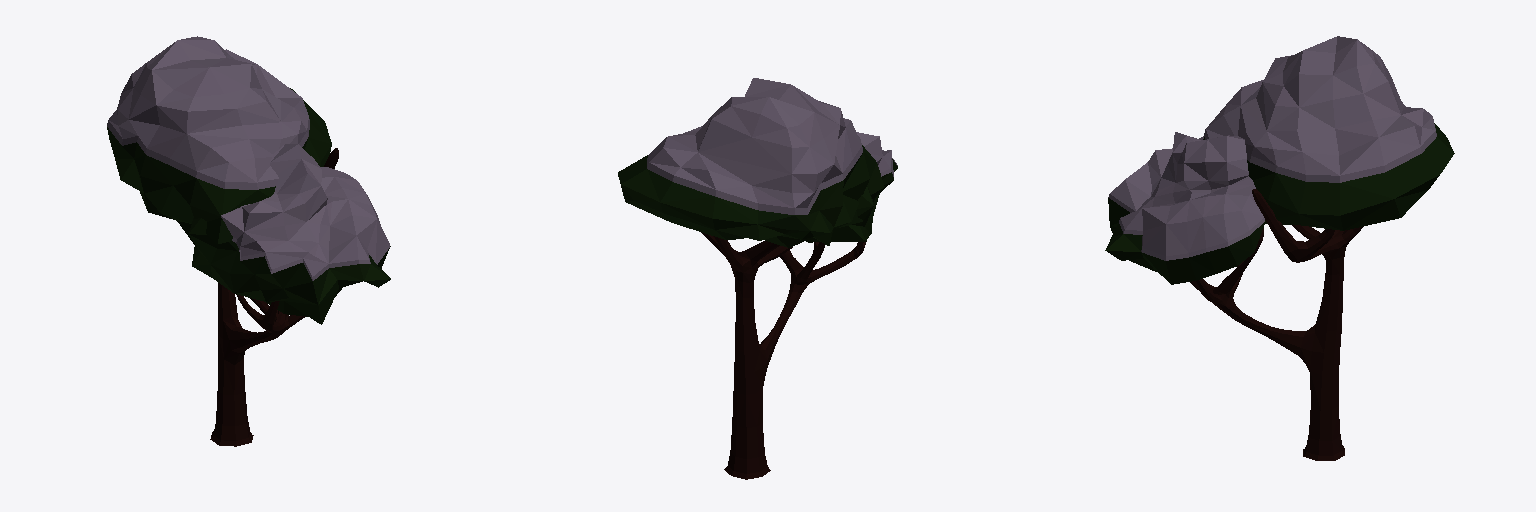
File: CommonTree_Snow_2.obj
3 renders of one model, left to right at view 1: azimuth 30°, elevation 25°; view 2: azimuth 150°, elevation 25°; view 3: azimuth 270°, elevation 25°, orthographic.
Visible parts, largest first — view 1: CommonTree_Snow_2_Cube.128; view 2: CommonTree_Snow_2_Cube.128; view 3: CommonTree_Snow_2_Cube.128.
Boxes of the visible parts, <box> form: CommonTree_Snow_2_Cube.128: <box>107,36,390,446</box>; CommonTree_Snow_2_Cube.128: <box>618,78,897,479</box>; CommonTree_Snow_2_Cube.128: <box>1105,36,1454,460</box>.
Bounding box in the file's own units: 1.66 × 3.16 × 2.54.